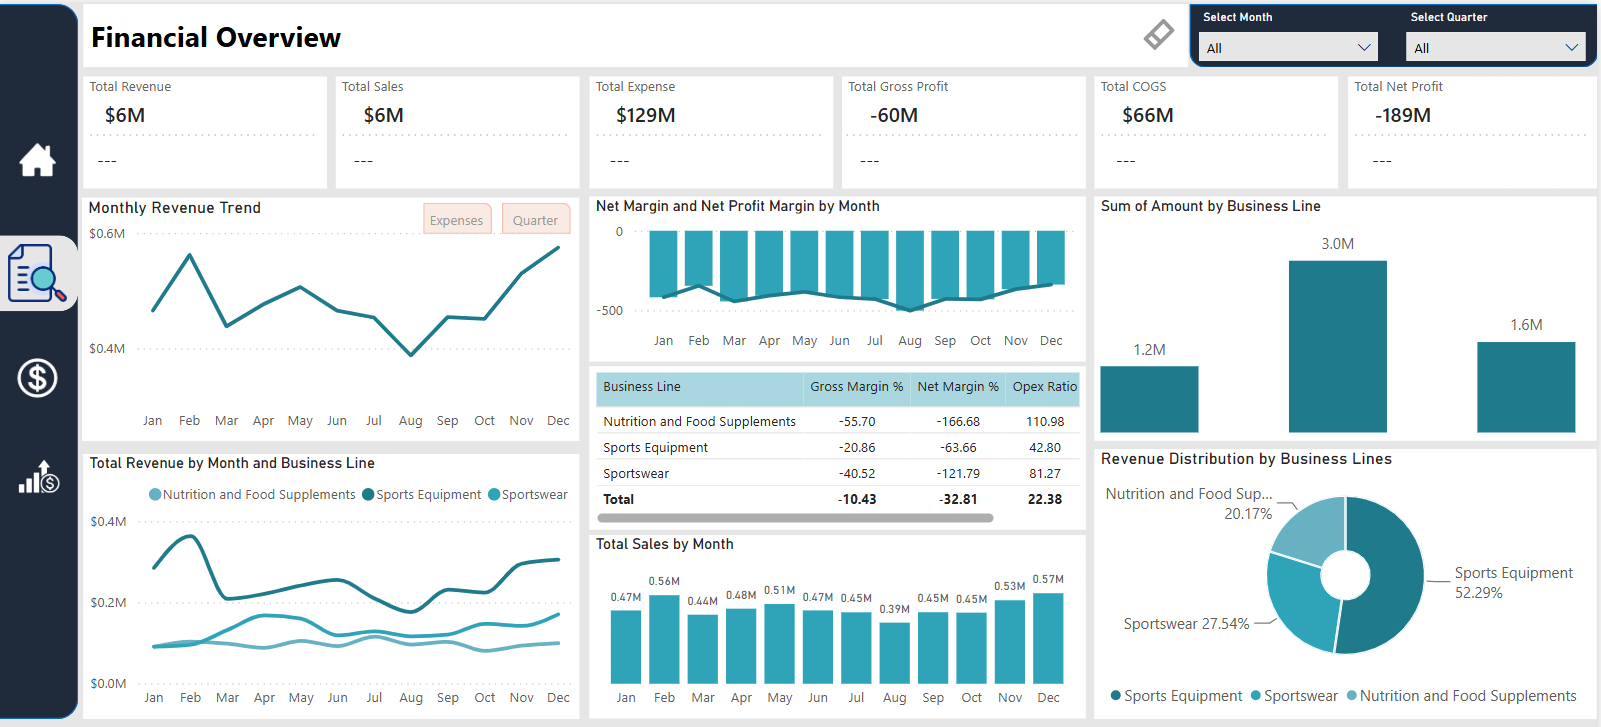

What the dashboard file says about the page in this screenshot:
{"tool":"powerbi","page":{"name":"Financial","canvas":[1280,720],"ordinal":1},"visuals":[{"type":"shape","box":[0,0,65,572],"z":0,"group":"g15"},{"type":"shape","box":[69,0,884,51],"z":0,"group":"g17"},{"type":"shape","box":[953.5,0,327,51],"z":0,"group":"g16"},{"type":"shape","title":"Revenue","box":[69,58,195,90],"z":0,"group":"g11"},{"type":"shape","title":"Sales","box":[271,58,195,90],"z":0,"group":"g5"},{"type":"shape","title":"Expense","box":[474,58,195,90],"z":0,"group":"g9"},{"type":"shape","title":"Gross Profit","box":[676,58,195,90],"z":0,"group":"g3"},{"type":"shape","title":"COGS","box":[878,58,195,90],"z":0,"group":"g7"},{"type":"group","id":"g1","title":"Total Net Profit","box":[1073,58,207,90],"z":0,"group":"g18"},{"type":"shape","title":"Net Profit","box":[1081,58,199,90],"z":0,"group":"g1"},{"type":"shape","box":[69,155,397,195],"z":0,"group":"g4"},{"type":"shape","box":[474,155,397,131],"z":0,"group":"g14"},{"type":"shape","box":[878,155,402,195],"z":0,"group":"g10"},{"type":"shape","box":[0,184.6,65,61],"z":0,"group":"g12"},{"type":"shape","box":[474,290,397,131],"z":0,"group":"g13"},{"type":"group","id":"g2","title":"Total rev by mnth & business line","box":[69,360,397,212],"z":0},{"type":"shape","box":[69,360,397,212],"z":0,"group":"g2"},{"type":"shape","box":[878,360.4,402,211.6],"z":0,"group":"g6"},{"type":"shape","box":[474,425,397,147],"z":0,"group":"g8"},{"type":"actionButton","box":[906,0,47,50],"z":1000,"group":"g17"},{"type":"slicer","title":"Month","fields":{"Values":["Date Table.Month"]},"box":[951.7,0.5,162.9,50.7],"z":1000,"group":"g16"},{"type":"cardVisual","title":"Revenue Card","fields":{"Data":["Membership_Payments.Total Revenue"]},"box":[57,58,98,57],"z":1000,"group":"g11"},{"type":"cardVisual","title":"Sales Card","fields":{"Data":["Membership_Payments.Total Revenue"]},"box":[264,58,105,57],"z":1000,"group":"g5"},{"type":"cardVisual","title":"Expenses Card","fields":{"Data":["Expenses.Total Expenses"]},"box":[466,58,110,57],"z":1000,"group":"g9"},{"type":"group","id":"g3","title":"Total Gross Profit","box":[669,58,202,90],"z":1000,"group":"g18"},{"type":"cardVisual","title":"Gross Profit Card","fields":{"Data":["Trainer_Operations.Gross Profit"]},"box":[669,58,99,57],"z":1000,"group":"g3"},{"type":"cardVisual","title":"COGS Card","fields":{"Data":["Trainer_Operations.Direct Costs"]},"box":[871,58,105,57],"z":1000,"group":"g7"},{"type":"cardVisual","title":"Net Profit Card","fields":{"Data":["Trainer_Operations.Net Profit"]},"box":[1073,58,160,57],"z":1000,"group":"g1"},{"type":"image","title":"Home icon","box":[0,102.5,65.1,47.1],"z":1000,"group":"g15"},{"type":"lineClusteredColumnComboChart","title":"Net Margin and Net Profit Margin by Month","fields":{"Category":["Membership_Payments.Month"],"Y2":["Membership_Payments.Net Profit Margin %"],"Y":["Membership_Payments.Net Margin %"]},"box":[474,154,397,132],"z":1000,"group":"g14"},{"type":"clusteredColumnChart","fields":{"Category":["Membership_Payments.Business Line"],"Y":["Sum(Membership_Payments.Amount)"]},"box":[878,154,402,195],"z":1000,"group":"g10"},{"type":"group","id":"g4","title":"Total expenses & total revenue by mnth","box":[68,155,398,196],"z":1000},{"type":"lineChart","title":"Monthly Revenue Trend","fields":{"Y":["Membership_Payments.Total Revenue"],"Category":["Membership_Payments.Month"]},"box":[68,155,398,195],"z":1000,"group":"g4"},{"type":"image","title":"Search Icon","box":[0,191.6,65,47],"z":1000,"group":"g12"},{"type":"tableEx","fields":{"Values":["Membership_Payments.Business Line","Membership_Payments.Gross Margin %","Membership_Payments.Net Margin %","Membership_Payments.Opex Ratio","Membership_Payments.EBIT Margin %"]},"box":[474,290,397,131],"z":1000,"group":"g13"},{"type":"donutChart","title":"Revenue Distribution by Business Lines","fields":{"Y":["Membership_Payments.Total Revenue"],"Category":["Membership_Payments.Business Line"]},"box":[878.3,356,401.7,216],"z":1000,"group":"g6"},{"type":"lineChart","title":"Total Revenue by Month and Business Line","fields":{"Category":["Membership_Payments.Month"],"Series":["Membership_Payments.Business Line"],"Y":["Membership_Payments.Total Revenue"]},"box":[69,360,397,212],"z":1000,"group":"g2"},{"type":"clusteredColumnChart","fields":{"Y":["Membership_Payments.Total Sales"],"Category":["Membership_Payments.Month"]},"box":[474,425,397,147],"z":1000,"group":"g8"},{"type":"slicer","title":"Quarter","fields":{"Values":["Date Table.Quarter"]},"box":[1118.2,0.5,162.9,50.7],"z":2000,"group":"g16"},{"type":"group","id":"g5","title":"Total Sales","box":[264,58,202,90],"z":2000,"group":"g18"},{"type":"textbox","title":"Revenue box 2","box":[75,110,31,29],"z":2000,"group":"g11"},{"type":"textbox","title":"Sales box 2","box":[280,110,31,29],"z":2000,"group":"g5"},{"type":"textbox","title":"Expense box 2","box":[485,110,31,29],"z":2000,"group":"g9"},{"type":"textbox","title":"Gross Profit box 2","box":[685,110,31,29],"z":2000,"group":"g3"},{"type":"textbox","title":"COGS box 2","box":[890,110,31,29],"z":2000,"group":"g7"},{"type":"textbox","title":"Net profit box 2","box":[1095,110,31,29],"z":2000,"group":"g1"},{"type":"image","title":"Dollar Icon","box":[0,276.3,65.1,47.1],"z":2000,"group":"g15"},{"type":"group","id":"g6","title":"Revenue by Business lines","box":[878,356,402,216],"z":2000},{"type":"group","id":"g7","title":"Total COGS","box":[871,58,202,90],"z":3000,"group":"g18"},{"type":"textbox","title":"Revenue box 1","box":[69,85.6,195,35],"z":3000,"group":"g11"},{"type":"textbox","title":"Sales box 1","box":[271,85.6,195,35],"z":3000,"group":"g5"},{"type":"textbox","title":"Expense box 1","box":[474,85.6,195,35],"z":3000,"group":"g9"},{"type":"textbox","title":"Gross Profit box 1","box":[674,85.6,197,35],"z":3000,"group":"g3"},{"type":"textbox","title":"COGS box 1","box":[878,85.6,195,35],"z":3000,"group":"g7"},{"type":"textbox","title":"Net Profit box 1","box":[1081,85.6,199,35],"z":3000,"group":"g1"},{"type":"image","title":"Dollar Growth icon","box":[0,355.9,65.1,47.1],"z":3000,"group":"g15"},{"type":"group","id":"g8","title":"Total Sales by Month","box":[474,425,397,147],"z":3000},{"type":"group","id":"g9","title":"Total Expense","box":[466,58,203,90],"z":4000,"group":"g18"},{"type":"group","id":"g10","title":"Total Revenue by Business Lines","box":[878,154,402,196],"z":4000},{"type":"group","id":"g11","title":"Total Revenue","box":[57,58,207,90],"z":5000,"group":"g18"},{"type":"group","id":"g12","title":"Search","box":[0,184.6,65.1,61.5],"z":5000,"group":"g15"},{"type":"group","id":"g13","title":"Table","box":[474,290,397,131],"z":5000},{"type":"group","id":"g14","title":"Net Margin & net profit margin","box":[474,154,397,132],"z":6000},{"type":"shape","title":"Revenue Quarter","box":[404,159,55,25],"z":6000,"group":"g4"},{"type":"group","id":"g15","title":"Home Tab","box":[0,0,65.1,572],"z":7000},{"type":"shape","title":"Expenses","box":[341,159,55,25],"z":7000,"group":"g4"},{"type":"group","id":"g16","title":"Slicers","box":[951.7,0,328.3,51.5],"z":8000},{"type":"group","id":"g17","title":"Finance Overview","box":[69,0,884,51],"z":9000},{"type":"group","id":"g18","title":"KPI Cards","box":[57,58,1223,90],"z":10000}]}

Visuals, with their boxes on the page's 1280x720 design canvas (x1, y1, x2, y2). These are canvas units, not pixel positions in the 1601x727 screenshot, which may show the page scaled, cropped or inside an application window:
shape: Rect(0, 0, 65, 572)
shape: Rect(69, 0, 953, 51)
shape: Rect(954, 0, 1280, 51)
"Revenue" shape: Rect(69, 58, 264, 148)
"Sales" shape: Rect(271, 58, 466, 148)
"Expense" shape: Rect(474, 58, 669, 148)
"Gross Profit" shape: Rect(676, 58, 871, 148)
"COGS" shape: Rect(878, 58, 1073, 148)
"Total Net Profit" group: Rect(1073, 58, 1280, 148)
"Net Profit" shape: Rect(1081, 58, 1280, 148)
shape: Rect(69, 155, 466, 350)
shape: Rect(474, 155, 871, 286)
shape: Rect(878, 155, 1280, 350)
shape: Rect(0, 185, 65, 246)
shape: Rect(474, 290, 871, 421)
"Total rev by mnth & business line" group: Rect(69, 360, 466, 572)
shape: Rect(69, 360, 466, 572)
shape: Rect(878, 360, 1280, 572)
shape: Rect(474, 425, 871, 572)
actionButton: Rect(906, 0, 953, 50)
"Month" slicer: Rect(952, 0, 1115, 51)
"Revenue Card" cardVisual: Rect(57, 58, 155, 115)
"Sales Card" cardVisual: Rect(264, 58, 369, 115)
"Expenses Card" cardVisual: Rect(466, 58, 576, 115)
"Total Gross Profit" group: Rect(669, 58, 871, 148)
"Gross Profit Card" cardVisual: Rect(669, 58, 768, 115)
"COGS Card" cardVisual: Rect(871, 58, 976, 115)
"Net Profit Card" cardVisual: Rect(1073, 58, 1233, 115)
"Home icon" image: Rect(0, 102, 65, 150)
"Net Margin and Net Profit Margin by Month" lineClusteredColumnComboChart: Rect(474, 154, 871, 286)
clusteredColumnChart - Membership_Payments.Business Line x Sum(Membership_Payments.Amount): Rect(878, 154, 1280, 349)
"Total expenses & total revenue by mnth" group: Rect(68, 155, 466, 351)
"Monthly Revenue Trend" lineChart: Rect(68, 155, 466, 350)
"Search Icon" image: Rect(0, 192, 65, 239)
tableEx - Membership_Payments.Business Line x Membership_Payments.Gross Margin %: Rect(474, 290, 871, 421)
"Revenue Distribution by Business Lines" donutChart: Rect(878, 356, 1280, 572)
"Total Revenue by Month and Business Line" lineChart: Rect(69, 360, 466, 572)
clusteredColumnChart - Membership_Payments.Total Sales x Membership_Payments.Month: Rect(474, 425, 871, 572)
"Quarter" slicer: Rect(1118, 0, 1281, 51)
"Total Sales" group: Rect(264, 58, 466, 148)
"Revenue box 2" textbox: Rect(75, 110, 106, 139)
"Sales box 2" textbox: Rect(280, 110, 311, 139)
"Expense box 2" textbox: Rect(485, 110, 516, 139)
"Gross Profit box 2" textbox: Rect(685, 110, 716, 139)
"COGS box 2" textbox: Rect(890, 110, 921, 139)
"Net profit box 2" textbox: Rect(1095, 110, 1126, 139)
"Dollar Icon" image: Rect(0, 276, 65, 323)
"Revenue by Business lines" group: Rect(878, 356, 1280, 572)
"Total COGS" group: Rect(871, 58, 1073, 148)
"Revenue box 1" textbox: Rect(69, 86, 264, 121)
"Sales box 1" textbox: Rect(271, 86, 466, 121)
"Expense box 1" textbox: Rect(474, 86, 669, 121)
"Gross Profit box 1" textbox: Rect(674, 86, 871, 121)
"COGS box 1" textbox: Rect(878, 86, 1073, 121)
"Net Profit box 1" textbox: Rect(1081, 86, 1280, 121)
"Dollar Growth icon" image: Rect(0, 356, 65, 403)
"Total Sales by Month" group: Rect(474, 425, 871, 572)
"Total Expense" group: Rect(466, 58, 669, 148)
"Total Revenue by Business Lines" group: Rect(878, 154, 1280, 350)
"Total Revenue" group: Rect(57, 58, 264, 148)
"Search" group: Rect(0, 185, 65, 246)
"Table" group: Rect(474, 290, 871, 421)
"Net Margin & net profit margin" group: Rect(474, 154, 871, 286)
"Revenue Quarter" shape: Rect(404, 159, 459, 184)
"Home Tab" group: Rect(0, 0, 65, 572)
"Expenses" shape: Rect(341, 159, 396, 184)
"Slicers" group: Rect(952, 0, 1280, 52)
"Finance Overview" group: Rect(69, 0, 953, 51)
"KPI Cards" group: Rect(57, 58, 1280, 148)
